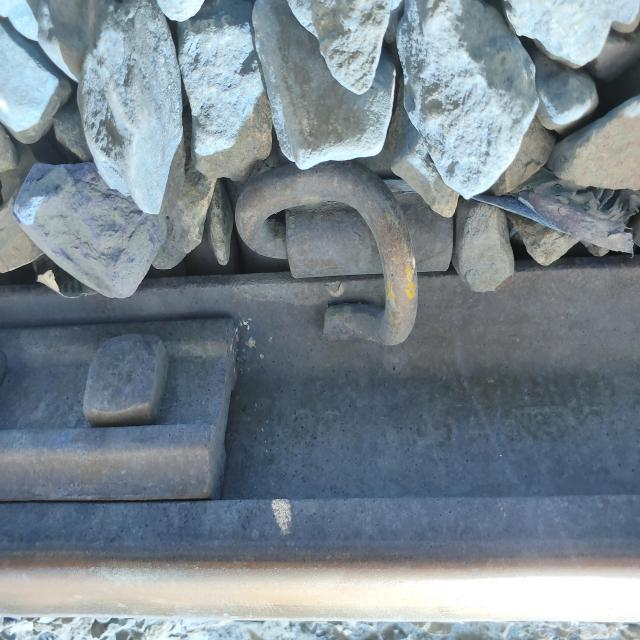Good Fasteners: (222, 158, 499, 344)
